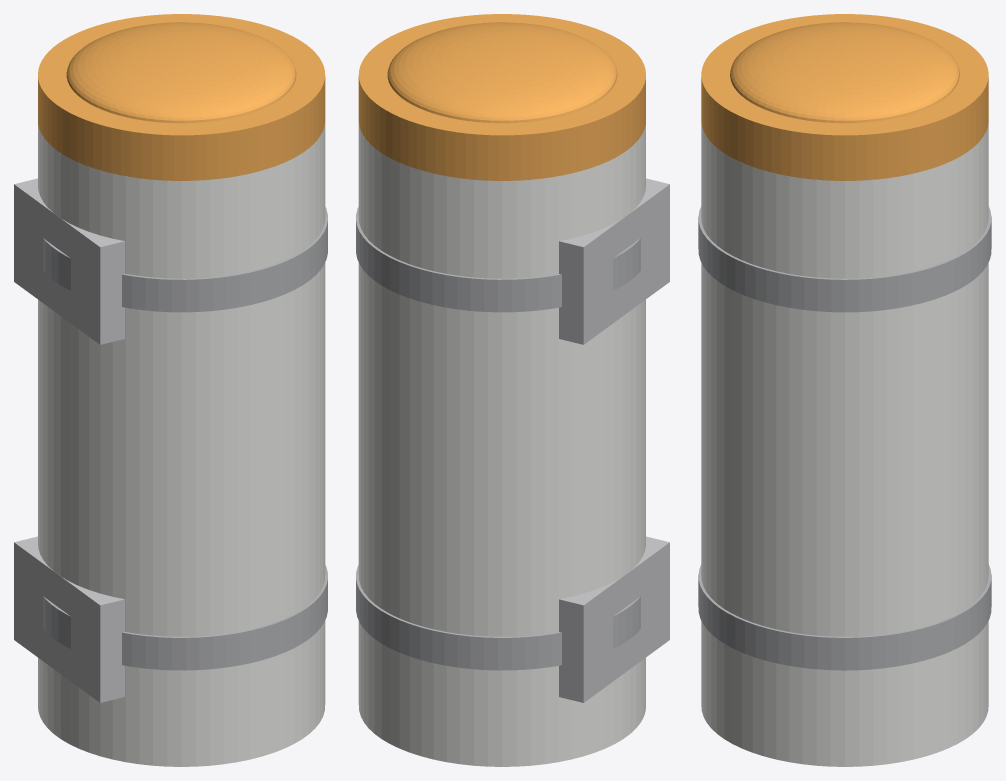
File: stage17_radial_recovery_chute_s.glb
3 renders of one model, left to right at view 1: azimuth 30°, elevation 25°; view 2: azimuth 150°, elevation 25°; view 3: azimuth 270°, elevation 25°, orthographic.
Parts seen in each view (by area): view 1: canister, lid, saddle, bands; view 2: canister, lid, saddle, bands; view 3: canister, lid, bands.
Part boxes in pixels (x1=…): canister: x1=38, y1=121, x2=325, y2=766; lid: x1=38, y1=14, x2=325, y2=180; saddle: x1=14, y1=178, x2=124, y2=702; bands: x1=43, y1=207, x2=327, y2=670; canister: x1=358, y1=121, x2=645, y2=766; lid: x1=358, y1=14, x2=645, y2=180; saddle: x1=559, y1=178, x2=669, y2=702; bands: x1=356, y1=207, x2=640, y2=670; canister: x1=701, y1=123, x2=988, y2=766; lid: x1=701, y1=14, x2=988, y2=180; bands: x1=698, y1=206, x2=991, y2=670.
Size of the model in its own units: 0.4078 by 1 by 0.4079.
